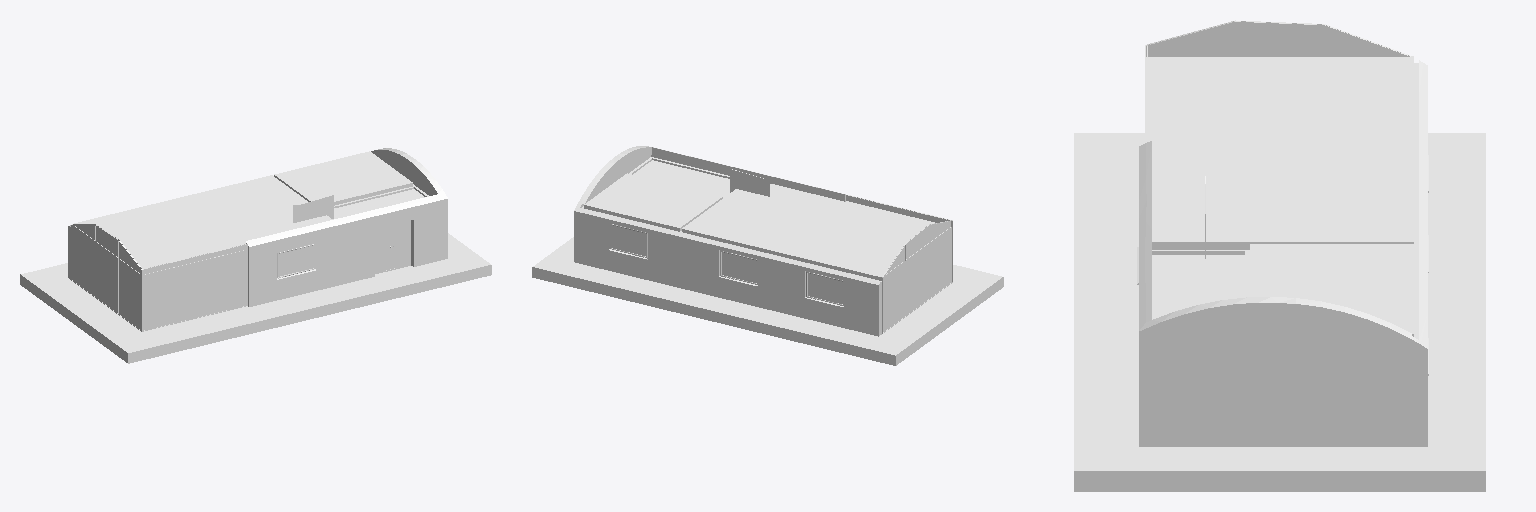
URDF robot description (BIM_model):
<?xml version="1.0" ?>
<robot name="BIM_model">

<!-- MATERIAL -->
<material name="white">
	<color rgba="1.0 1.0 1.0 0.95"/>
</material>

<!-- LINK -->
<link name="bim">
	<visual>
		<origin xyz="2 0 0" rpy="0 0 0"/>
		<geometry>
			<mesh filename="package://ur_arm_control/urdf/example_building.stl"/>
		</geometry>
		<material name="white"/>
	</visual>
    <collision>
		<origin xyz="0 0 0" rpy="0 0 0"/>
		<geometry>
			<mesh filename="package://ur_arm_control/urdf/example_building.stl"/>
		</geometry>
    </collision>
</link>

</robot>

--- What the picture shows (computed from the rendered views, not written in the file) ---
3 views of the same robot in one strip: view 1: azimuth 30°, elevation 25°; view 2: azimuth 150°, elevation 25°; view 3: azimuth 270°, elevation 25° (orthographic).
Robot: BIM_model — 1 links, 0 joints (none); root link bim; default pose: every joint at zero.
Links seen in each view (by area): view 1: bim; view 2: bim; view 3: bim.
Link boxes in pixels (x1,y1,x2,y2): bim: (20,148,491,363); bim: (532,146,1003,365); bim: (1074,20,1485,491).
Bounding box of the posed robot: 16.87 × 8.67 × 3.83 m (x, y, z).
Meshes: 1 distinct files referenced, 1 mesh visuals loaded (1 binary STL).